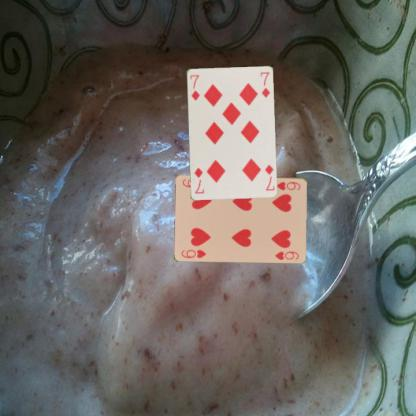6h: (178, 247, 208, 259), (274, 179, 301, 191)
7d: (187, 72, 201, 102), (262, 162, 275, 192)
